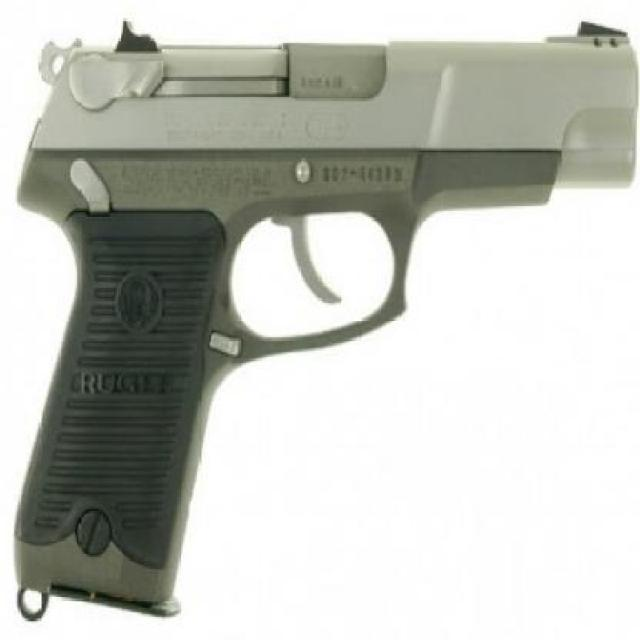guns: (0, 13, 622, 607)
